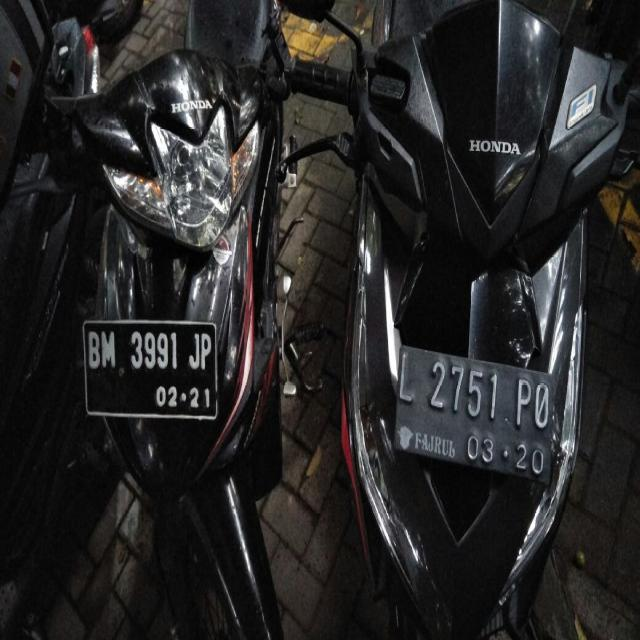plate: (396, 344, 554, 482), (82, 320, 218, 422)
